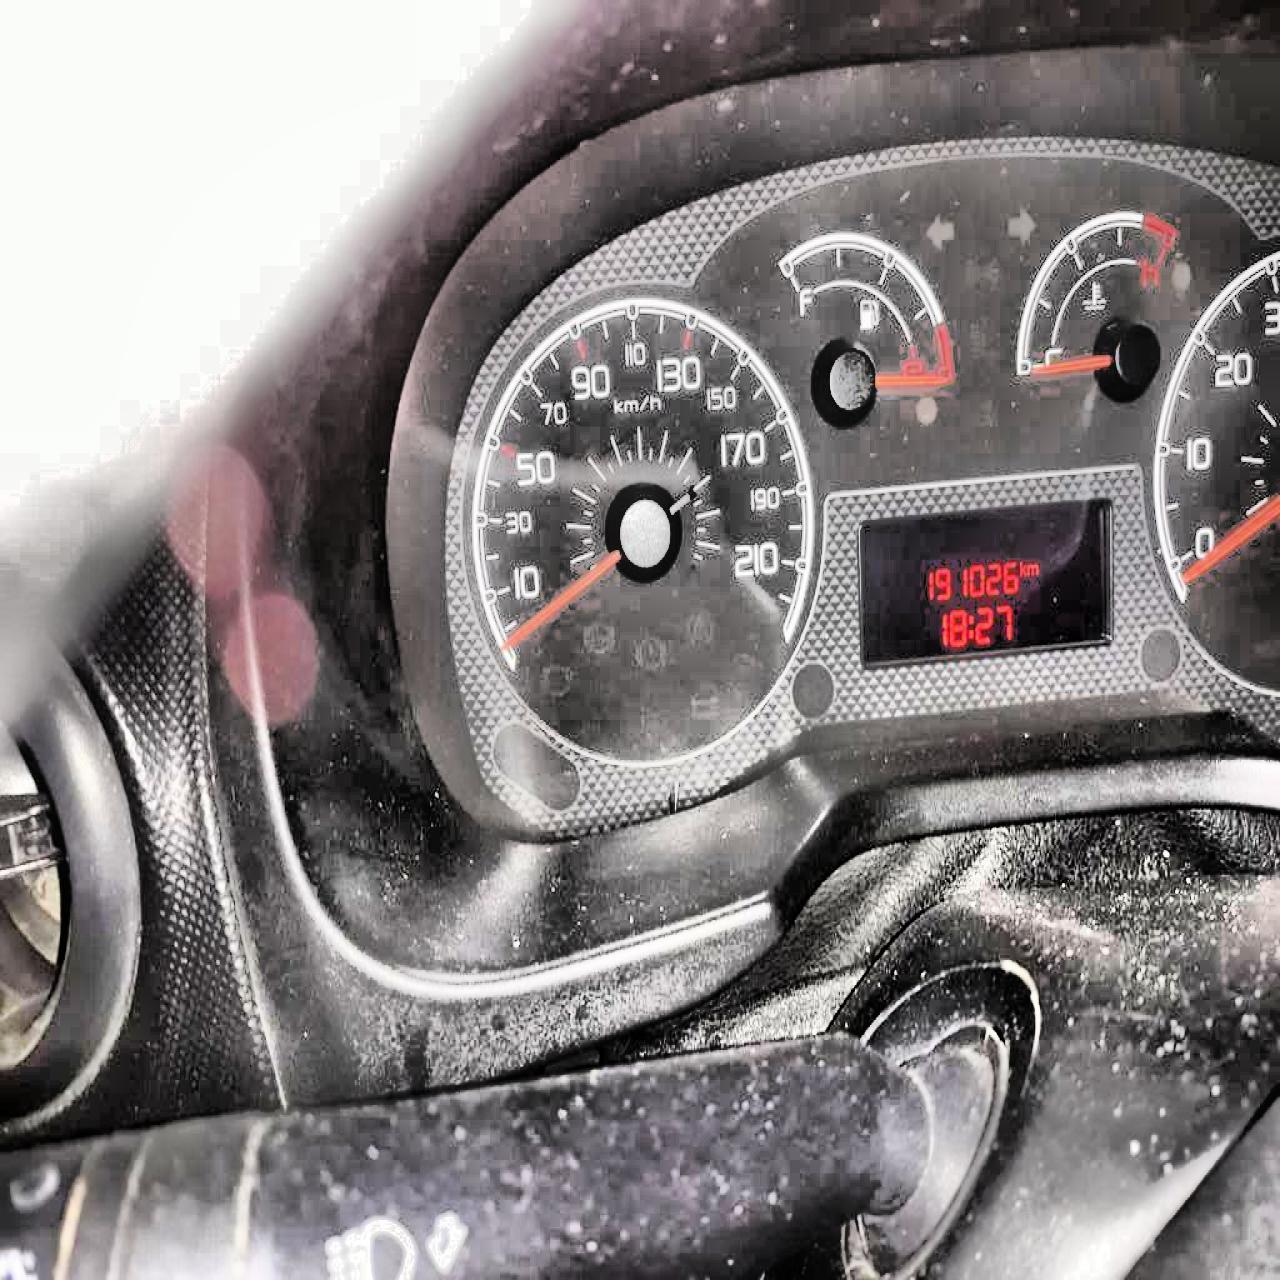0: (967, 561, 982, 597)
1: (926, 567, 934, 600), (960, 565, 968, 597), (941, 612, 947, 647)
2: (974, 605, 993, 645), (985, 560, 1000, 595)
6: (1001, 558, 1017, 593)
7: (995, 604, 1013, 641)
8: (947, 608, 965, 647)
9: (935, 564, 949, 600)
X: (1027, 560, 1039, 577), (967, 613, 973, 641), (1019, 558, 1027, 577)
odometer: (858, 483, 1123, 675)
